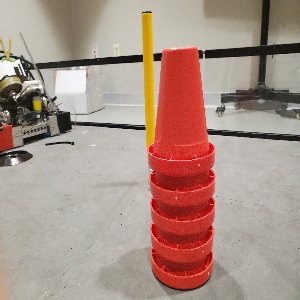Red_5: (143, 42, 218, 294)
